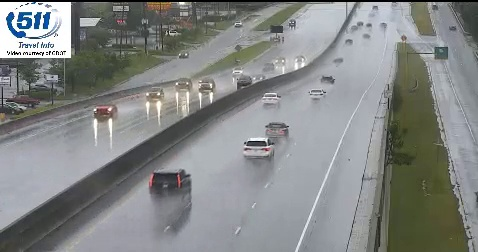car: (149, 169, 191, 195), (243, 137, 275, 159), (265, 122, 288, 139), (262, 93, 279, 106), (308, 89, 326, 100)
